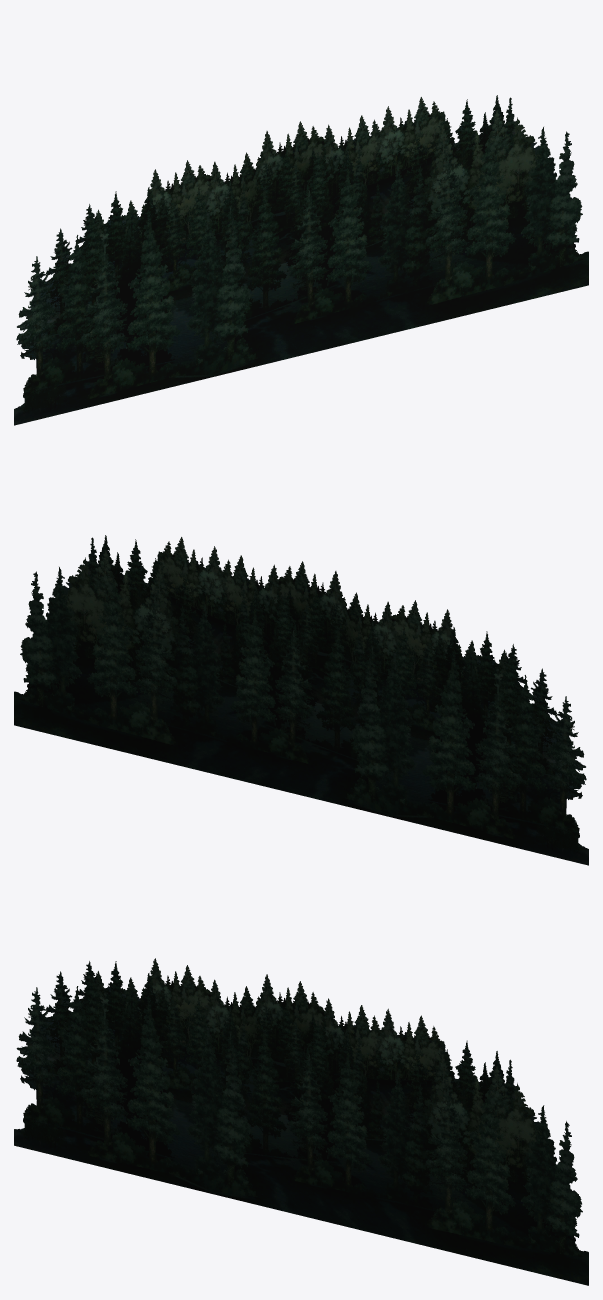
Rendered from EnmuFar2.fbx.
3 views of the same model, one above another, from view 1: azimuth 30°, elevation 25°; view 2: azimuth 150°, elevation 25°; view 3: azimuth 330°, elevation 25° (orthographic).
Visible parts, largest first — view 1: SM_a_006_Far_04a.001; view 2: SM_a_006_Far_04a.001; view 3: SM_a_006_Far_04a.001.
Boxes of the visible parts, x1=… form: SM_a_006_Far_04a.001: x1=14, y1=95, x2=588, y2=425; SM_a_006_Far_04a.001: x1=14, y1=535, x2=588, y2=865; SM_a_006_Far_04a.001: x1=14, y1=958, x2=588, y2=1285.
Bounding box in the file's own units: 42 × 18.93 × 2.04e-06.
